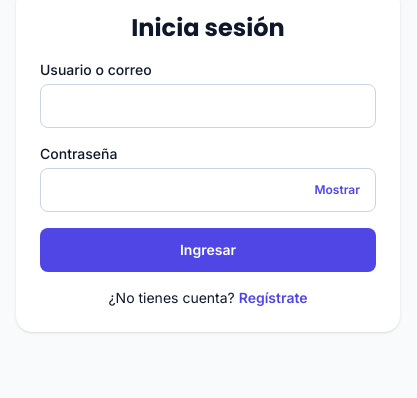
Test: Login › campos vacíos → errores y 0 peticiones
Click the button "Ingresar". click: (208, 250)
box: [40, 228, 376, 272]
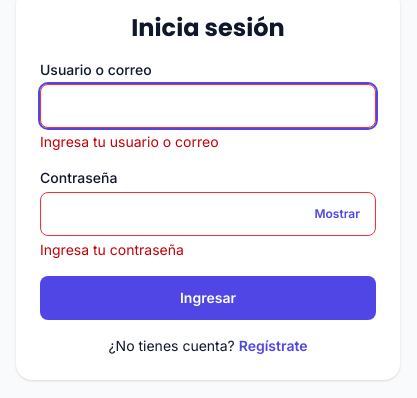
Now the text "Ingresa tu usuario o correo" is shown, box [40, 133, 219, 150]
